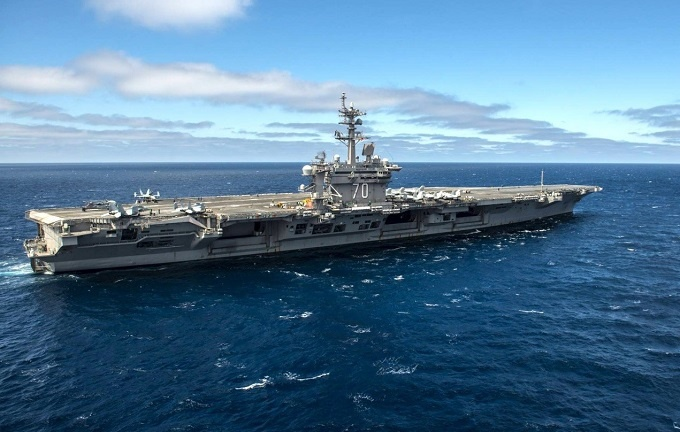warship: (15, 111, 607, 278)
